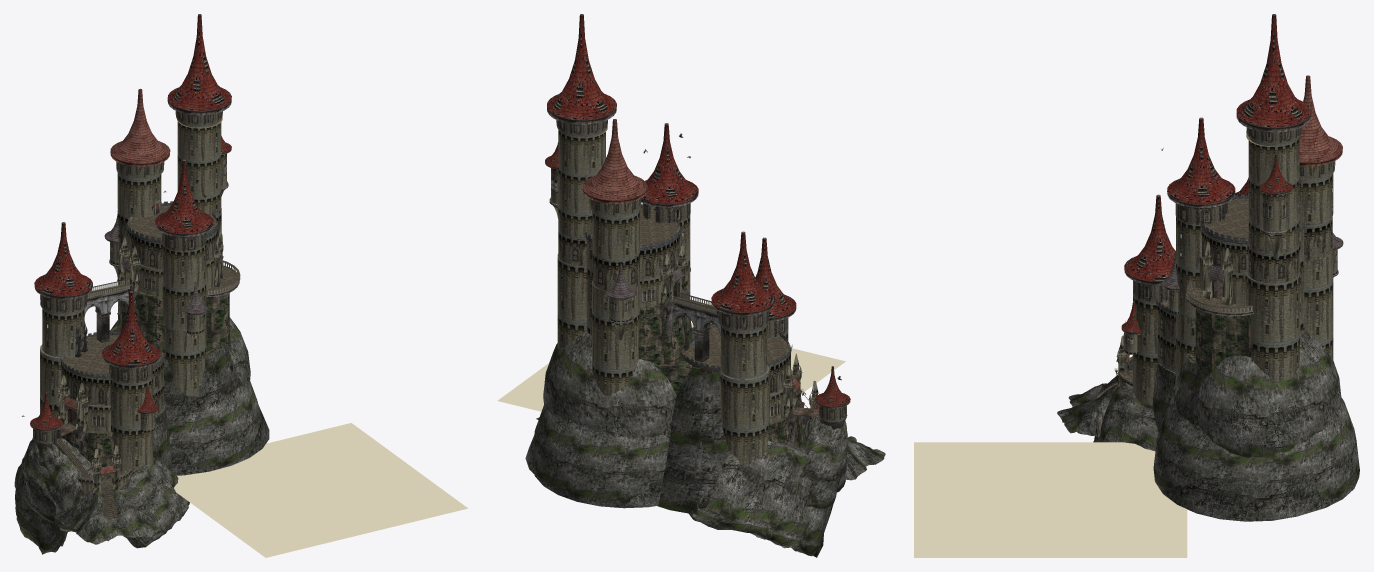
3 renders of one model, left to right at view 1: azimuth 30°, elevation 25°; view 2: azimuth 150°, elevation 25°; view 3: azimuth 270°, elevation 25°, orthographic. The views are drawn at different scales.
Parts seen in each view (by area): view 1: Terrain 2,9, <12, 12, 50> (×12), Bloodstone Castle 199 prims I, <24, 24, 50> (×9), Sphere 40x40x40 (×3), GC_Hollow_tree_Example 2 (×2), Bloodstone Castle 199 prims part E, Mountain with Waterfall, Bloodstone Castle 199 part A, Castle_a 1, 99 Prim Castle_a, prim10-mesh (+5 smaller); view 2: Bloodstone Castle 199 prims I, <12, 12, 50> (×13), GC_Hollow_tree_Example 2, Sphere 40x40x40 (×3), <24, 24, 50> (×7), 99 Prim Castle_a, Terrain 2,9, Bloodstone Castle 199 prims J (×2), Bloodstone Castle 199 part A, <20, 20, 20> (×2), prim10-mesh, Mountain with Waterfall (+4 smaller); view 3: Terrain 2,9, Bloodstone Castle 199 prims I, <12, 12, 50> (×13), <24, 24, 50> (×6), Bloodstone Castle 199 prims part E, Sphere 40x40x40 (×2), GC_Hollow_tree_Example 2, Bloodstone Castle 199 part A, Bloodstone Castle 199 prims J (×2), Mountain with Waterfall, Bloodstone Castle 199 prims H, Bloodstone Castle 199Li Sommer&Winter (+1 smaller).
Part boxes in pixels (x1=…): Terrain 2,9: x1=174, y1=423, x2=467, y2=557; <12, 12, 50> (×12): x1=40, y1=120, x2=221, y2=472; Bloodstone Castle 199 prims I: x1=77, y1=159, x2=260, y2=494; <24, 24, 50> (×9): x1=56, y1=217, x2=229, y2=471; Sphere 40x40x40 (×3): x1=34, y1=14, x2=231, y2=299; GC_Hollow_tree_Example 2 (×2): x1=14, y1=438, x2=189, y2=554; Bloodstone Castle 199 prims part E: x1=164, y1=346, x2=269, y2=475; Mountain with Waterfall: x1=54, y1=490, x2=159, y2=544; Bloodstone Castle 199 part A: x1=102, y1=291, x2=160, y2=368; Castle_a 1: x1=38, y1=444, x2=85, y2=524; 99 Prim Castle_a: x1=23, y1=441, x2=63, y2=526; prim10-mesh: x1=62, y1=335, x2=145, y2=379; Bloodstone Castle 199 prims I: x1=533, y1=123, x2=809, y2=514; <12, 12, 50> (×13): x1=556, y1=120, x2=769, y2=464; GC_Hollow_tree_Example 2: x1=689, y1=440, x2=832, y2=557; Sphere 40x40x40 (×3): x1=547, y1=14, x2=775, y2=316; <24, 24, 50> (×7): x1=586, y1=222, x2=802, y2=447; 99 Prim Castle_a: x1=799, y1=422, x2=846, y2=509; Terrain 2,9: x1=497, y1=323, x2=845, y2=411; Bloodstone Castle 199 prims J (×2): x1=587, y1=208, x2=710, y2=361; Bloodstone Castle 199 part A: x1=755, y1=237, x2=796, y2=321; <20, 20, 20> (×2): x1=605, y1=263, x2=850, y2=408; prim10-mesh: x1=682, y1=327, x2=788, y2=372; Mountain with Waterfall: x1=843, y1=436, x2=885, y2=480; Terrain 2,9: x1=914, y1=442, x2=1187, y2=557; Bloodstone Castle 199 prims I: x1=1119, y1=117, x2=1359, y2=512; <12, 12, 50> (×13): x1=1132, y1=127, x2=1333, y2=403; <24, 24, 50> (×6): x1=1152, y1=192, x2=1304, y2=432; Bloodstone Castle 199 prims part E: x1=1154, y1=353, x2=1337, y2=521; Sphere 40x40x40 (×2): x1=1236, y1=14, x2=1342, y2=166; GC_Hollow_tree_Example 2: x1=1093, y1=382, x2=1158, y2=451; Bloodstone Castle 199 part A: x1=1124, y1=194, x2=1181, y2=285; Bloodstone Castle 199 prims J (×2): x1=1202, y1=199, x2=1301, y2=357; Mountain with Waterfall: x1=1057, y1=370, x2=1132, y2=437; Bloodstone Castle 199 prims H: x1=1202, y1=238, x2=1233, y2=305; Bloodstone Castle 199Li Sommer&Winter: x1=1185, y1=287, x2=1253, y2=316.
Size of what is drawn, in the model's own units: 103 by 143 by 104.
Materials: 264 (261 with a texture image).
